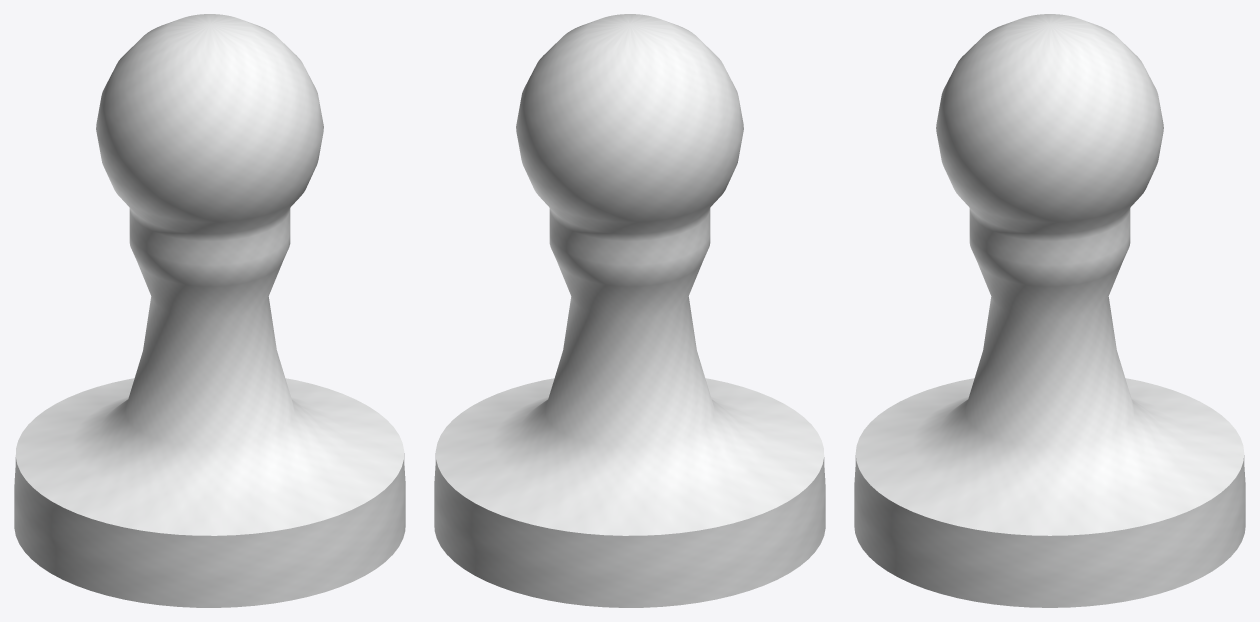
The model's file is fractal-pawn-blue-branch-ember.glb.
3 views of the same model, side by side, from view 1: azimuth 30°, elevation 25°; view 2: azimuth 150°, elevation 25°; view 3: azimuth 270°, elevation 25° (orthographic).
Visible parts, largest first — view 1: Smooth hollow glass shell; view 2: Smooth hollow glass shell; view 3: Smooth hollow glass shell.
Part boxes in pixels (x1,y1,x2,y2): Smooth hollow glass shell: [14, 14, 405, 607]; Smooth hollow glass shell: [434, 14, 825, 607]; Smooth hollow glass shell: [854, 14, 1245, 607].
Size of the model in its own units: 1.34 by 1.89 by 1.34.
Materials: 1 (1 with a texture image).
